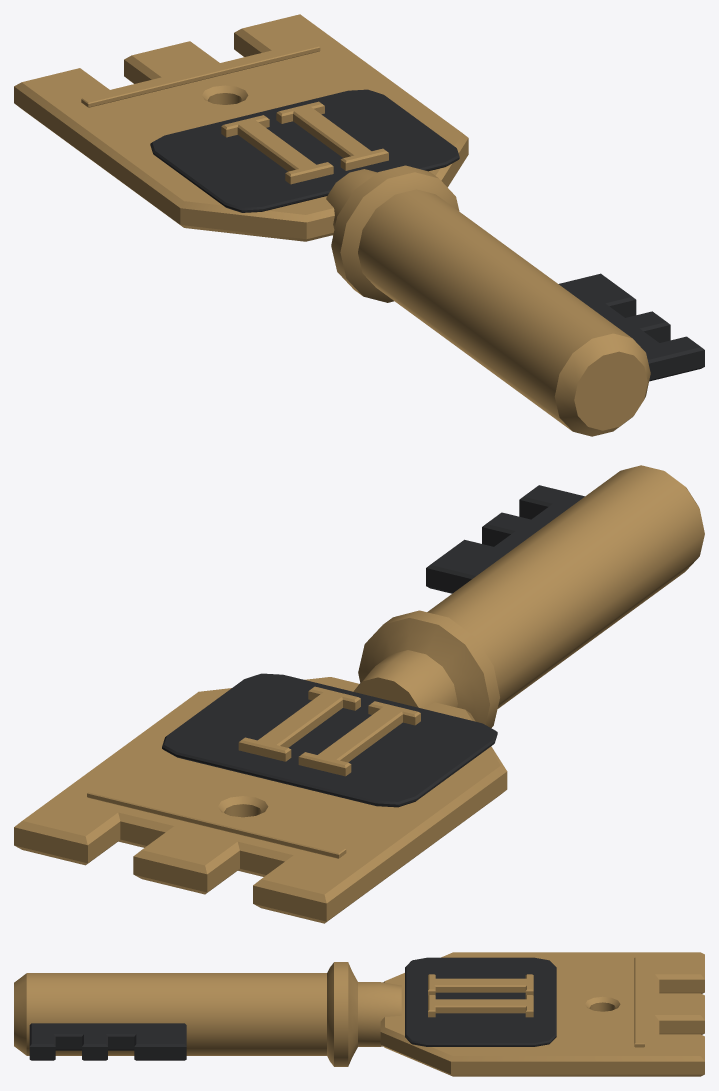
Rendered from tower_key_2.glb.
3 renders of one model, top to bottom at view 1: azimuth 30°, elevation 25°; view 2: azimuth 150°, elevation 25°; view 3: azimuth 270°, elevation 25°, orthographic. The views are drawn at different scales.
Parts seen in each view (by area): view 1: tower_key_2, key_bit; view 2: tower_key_2, key_bit; view 3: tower_key_2, key_bit.
Part boxes in pixels (x1,y1,x2,y2): tower_key_2: (14, 14, 650, 436); key_bit: (150, 89, 704, 381); tower_key_2: (14, 465, 704, 923); key_bit: (162, 485, 584, 807); tower_key_2: (14, 952, 704, 1076); key_bit: (29, 957, 556, 1060).
Size of the model in its own units: 0.036 by 0.0148 by 0.098.
